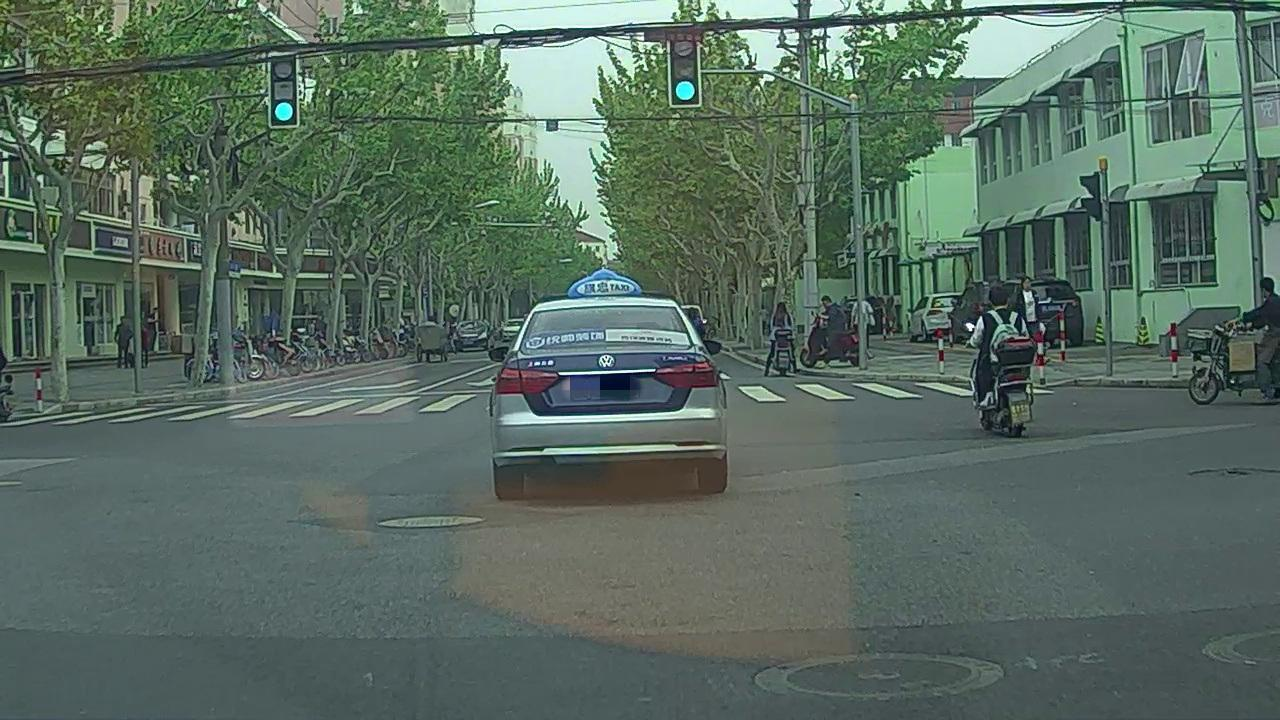traffic_light: (670, 38, 699, 104), (274, 55, 298, 126)
